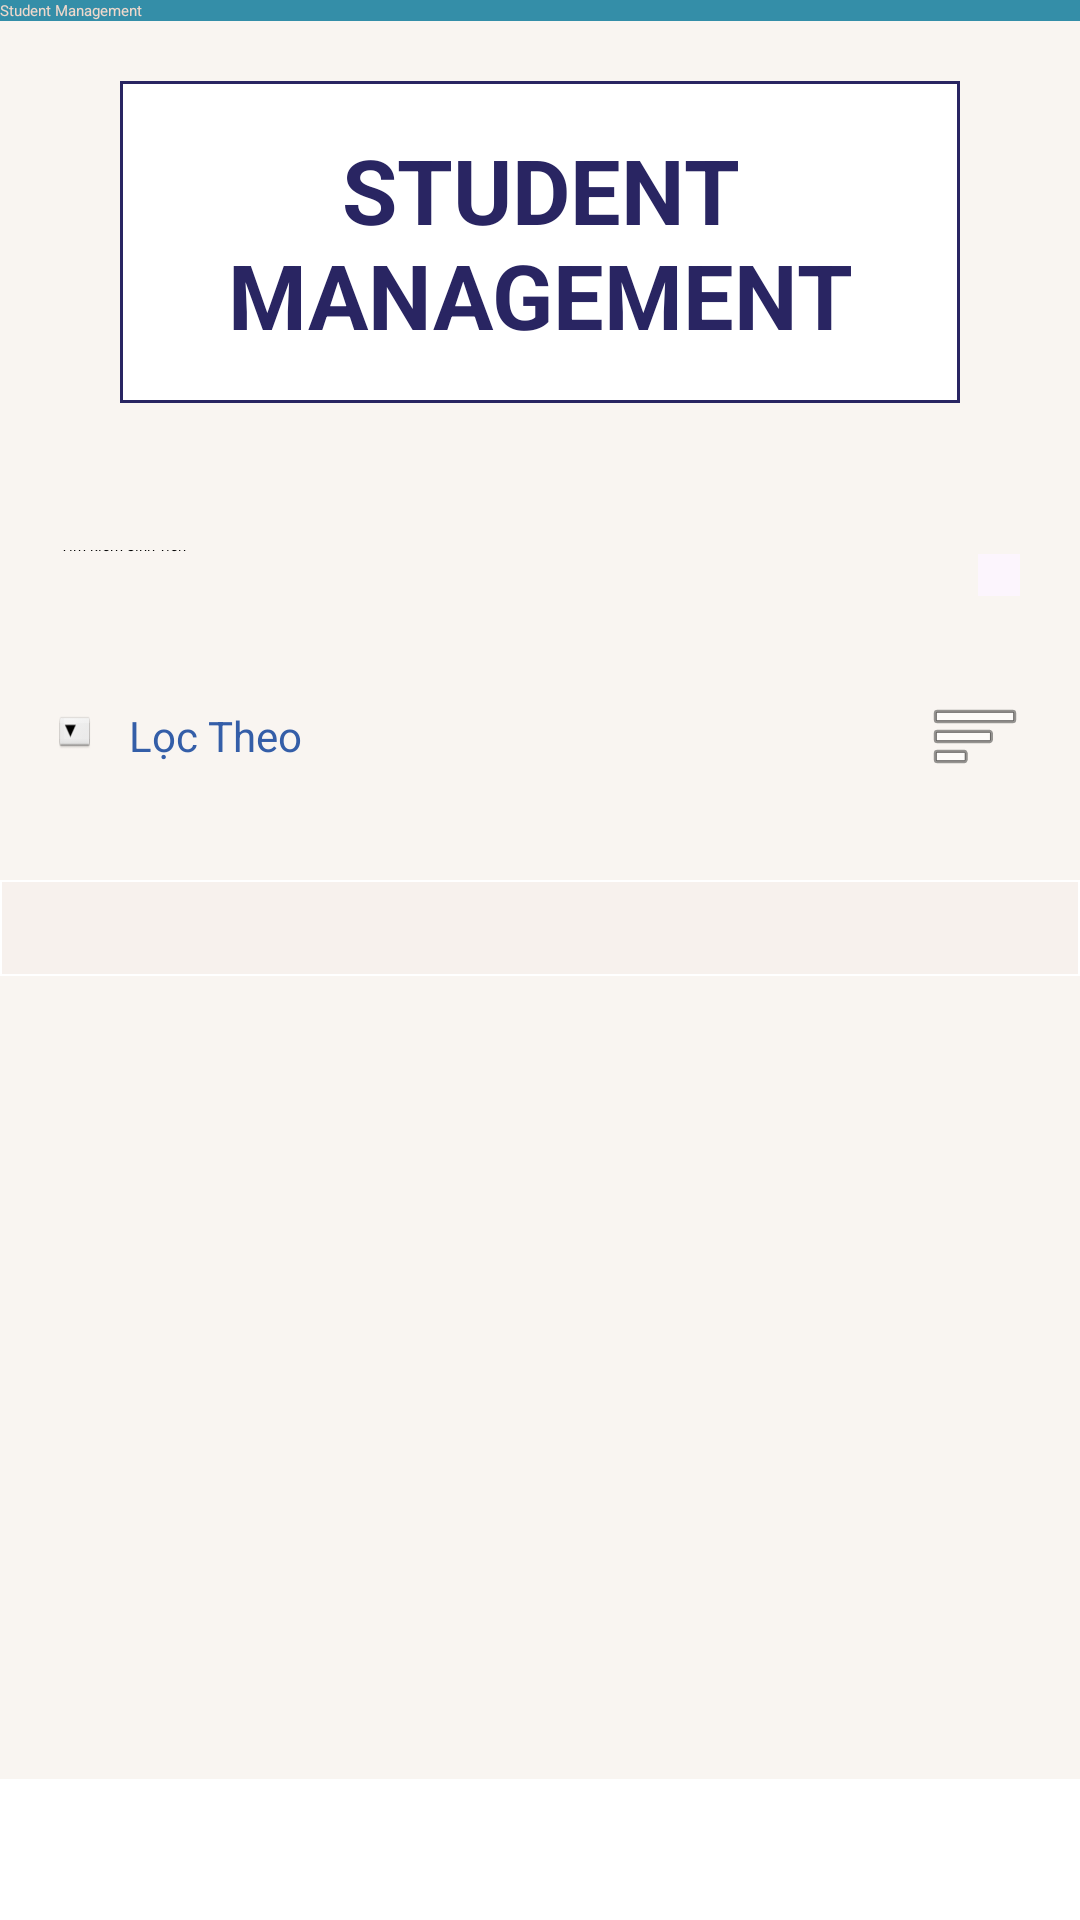

Where icons sit on this 1080×1920 app screen, as (x1, y1, x2, y2):
dropdown: (59, 717, 90, 748)
Toggle sort order: (934, 710, 1016, 763)
